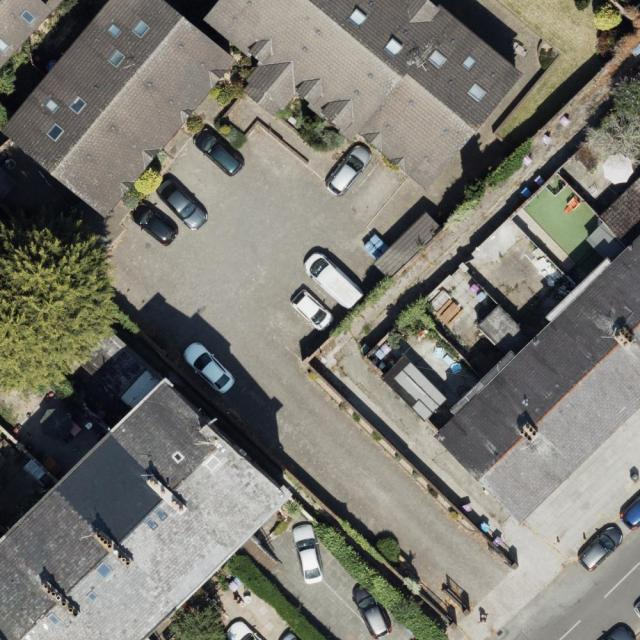roof: (0, 382, 292, 640), (435, 177, 640, 526), (204, 0, 522, 193), (2, 0, 239, 215), (1, 1, 63, 68)
skylight: (43, 119, 66, 142), (106, 49, 129, 71), (346, 6, 367, 30), (384, 37, 405, 58), (132, 17, 154, 37), (428, 48, 447, 69), (70, 95, 89, 116), (468, 83, 487, 102), (105, 20, 125, 37), (96, 562, 115, 579), (46, 611, 63, 627), (154, 507, 170, 523), (462, 56, 477, 72), (45, 98, 61, 112), (145, 516, 159, 531), (20, 8, 32, 21), (0, 38, 10, 53), (88, 590, 99, 601)
